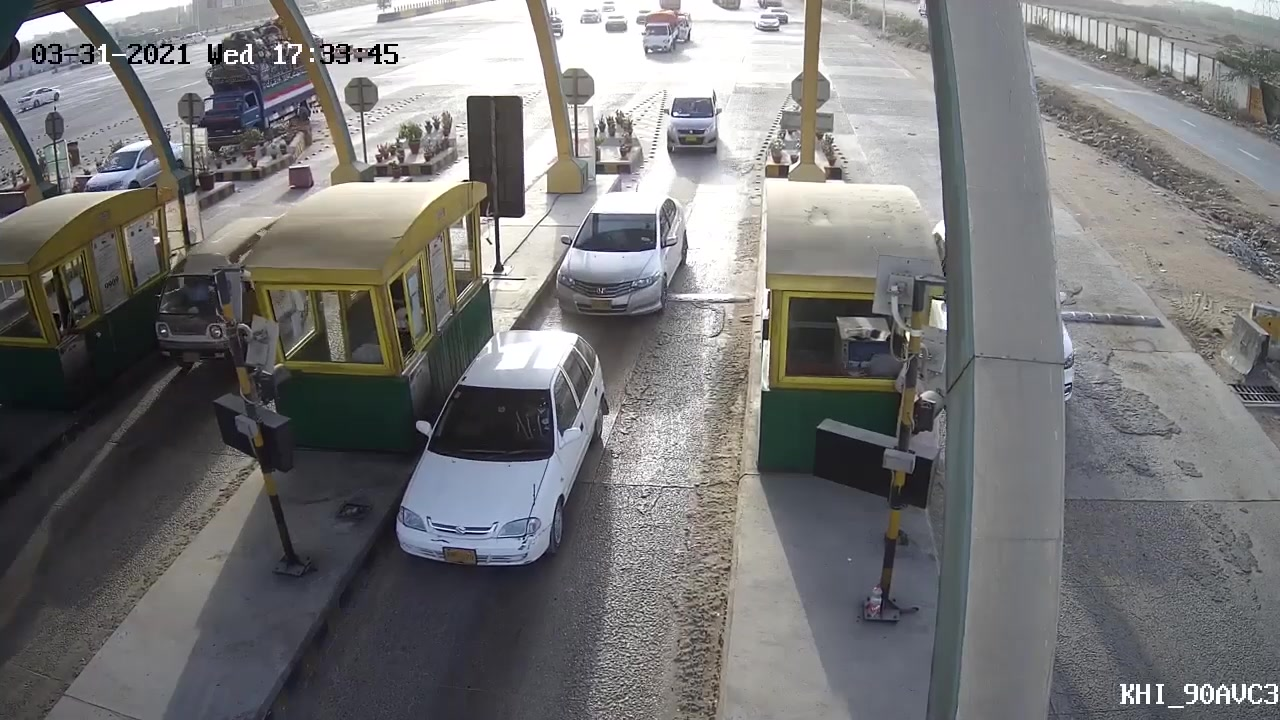F1: (385, 329, 607, 578)
